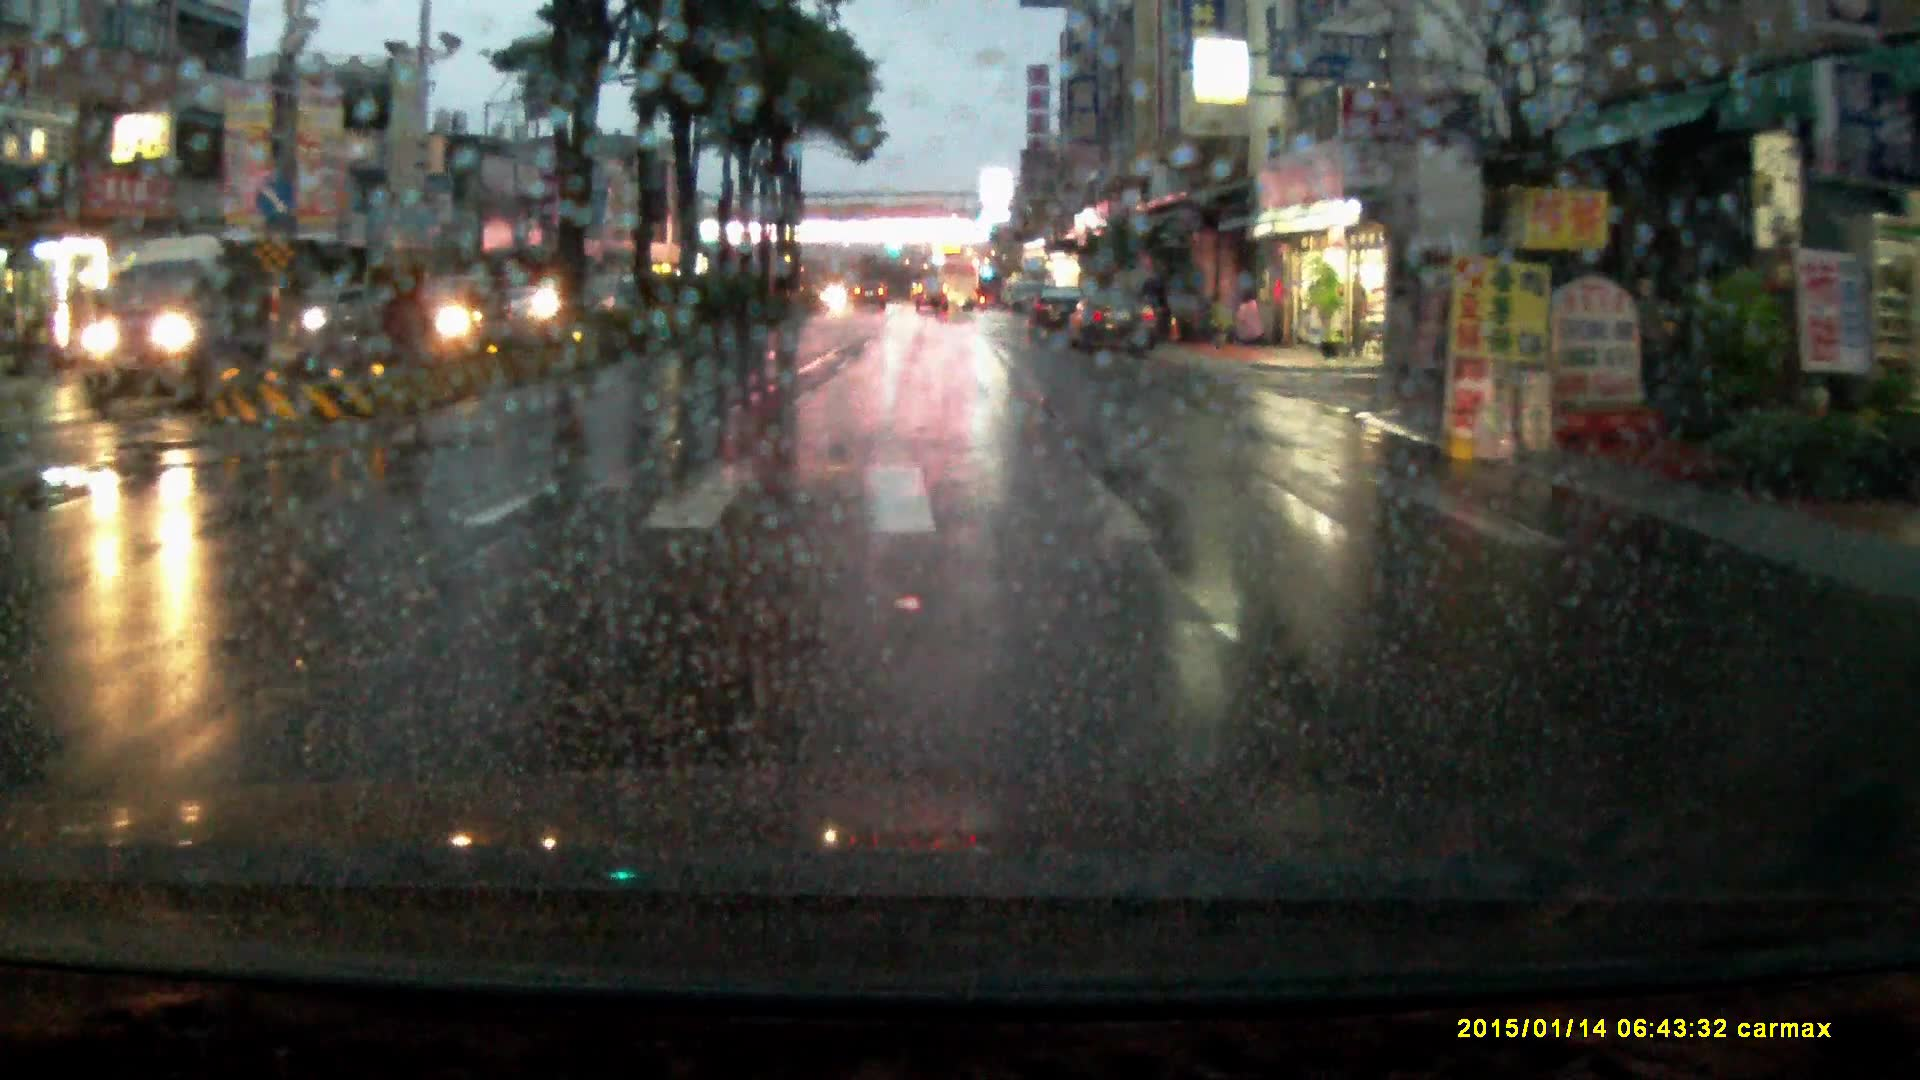vehicle: (82, 229, 349, 415), (377, 276, 517, 353), (1065, 286, 1162, 357), (301, 286, 386, 345), (1027, 285, 1083, 336), (934, 260, 980, 319), (916, 277, 952, 316), (852, 282, 889, 314)
